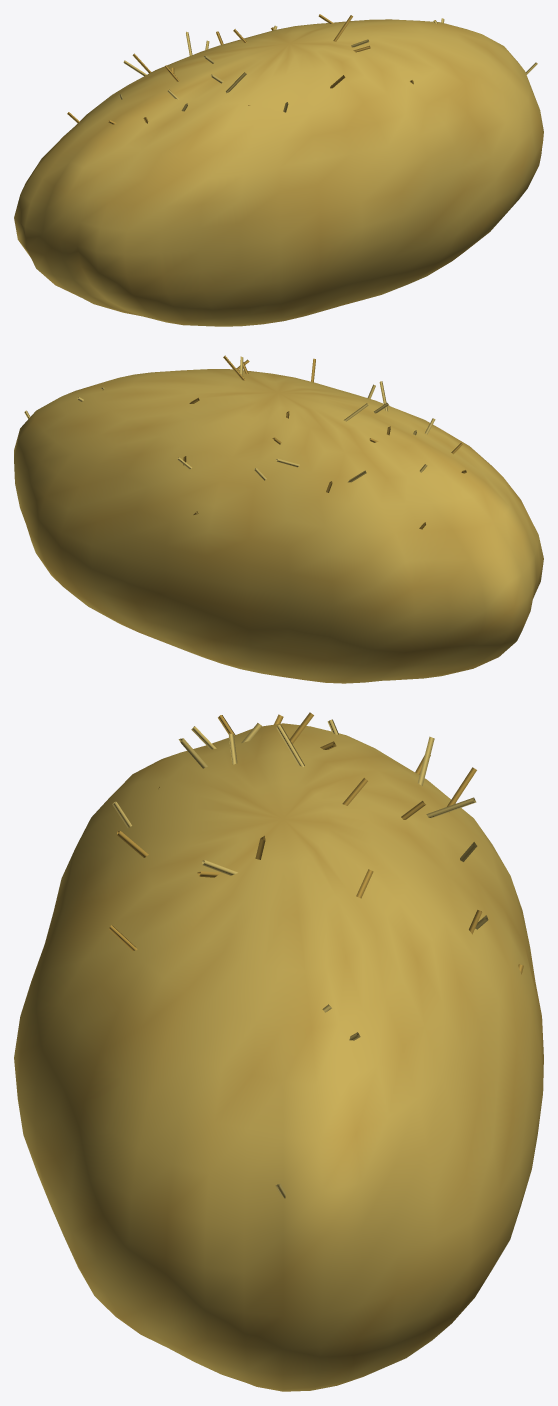
File: furn_hay_pile.glb
3 views of the same model, one above another, from view 1: azimuth 30°, elevation 25°; view 2: azimuth 150°, elevation 25°; view 3: azimuth 270°, elevation 25° (orthographic). The views are drawn at different scales.
Visible parts, largest first — view 1: furn_hay_pile_main; view 2: furn_hay_pile_main; view 3: furn_hay_pile_main.
Part boxes in pixels (x1,y1,x2,y2): furn_hay_pile_main: (14, 14, 543, 326); furn_hay_pile_main: (14, 355, 543, 683); furn_hay_pile_main: (14, 712, 543, 1391).
Bounding box in the file's own units: 1.62 × 0.8573 × 0.805.
